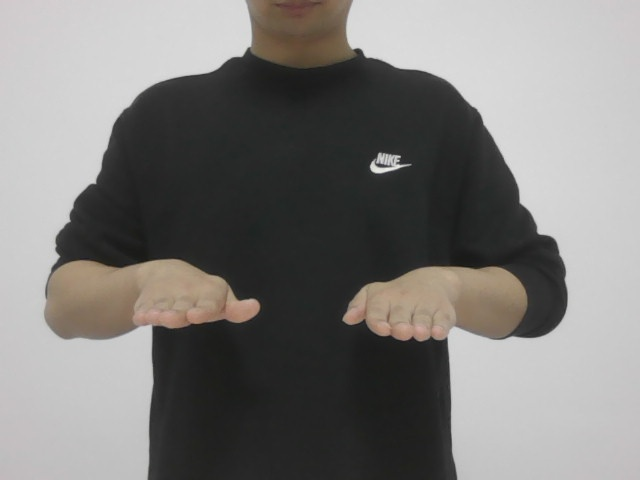flat: (127, 247, 465, 349)
